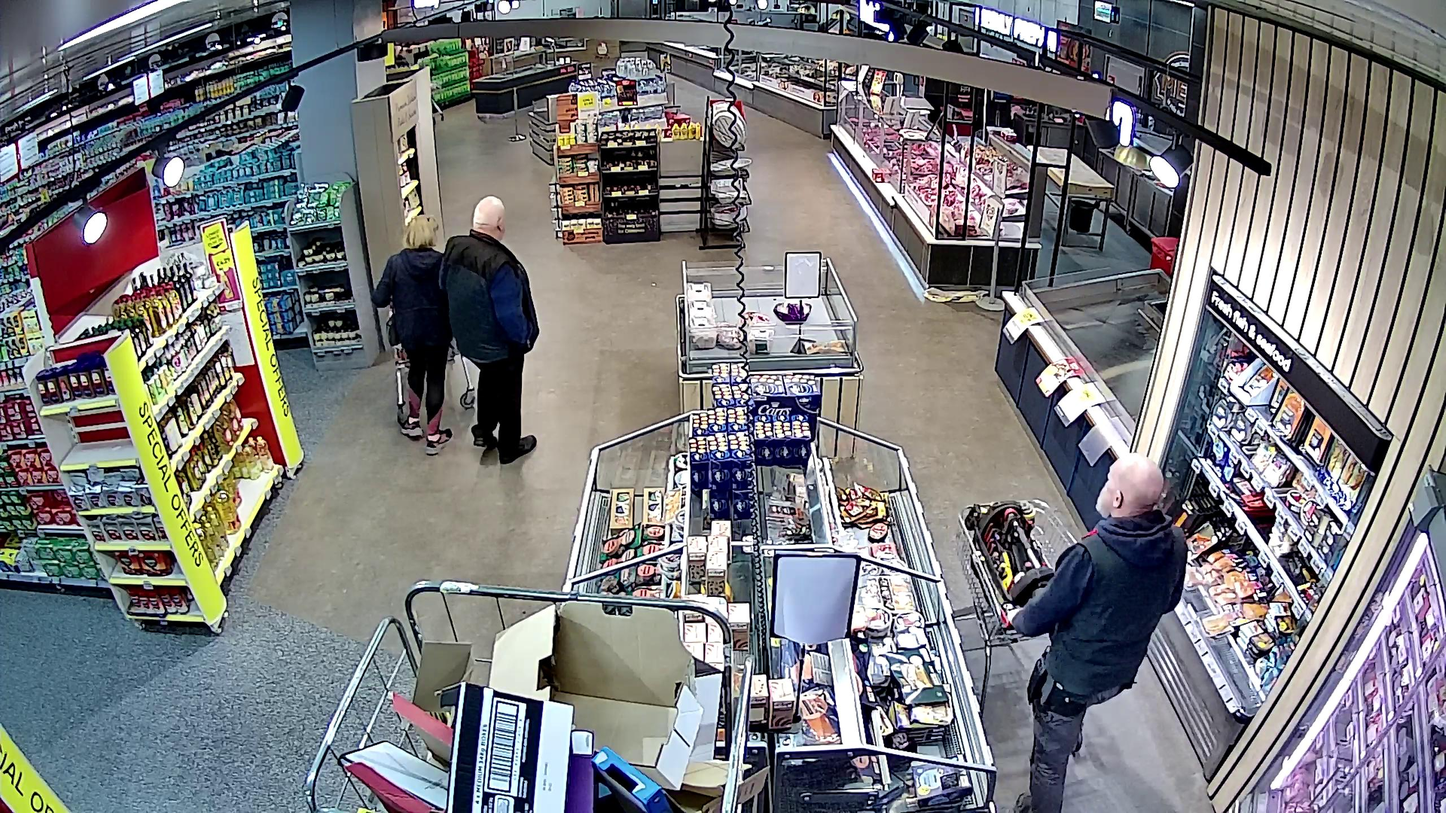filled-trolly: (957, 499, 1081, 715)
person: (1010, 457, 1188, 813)
person-with-filled-basket-trolly: (958, 457, 1188, 813)
